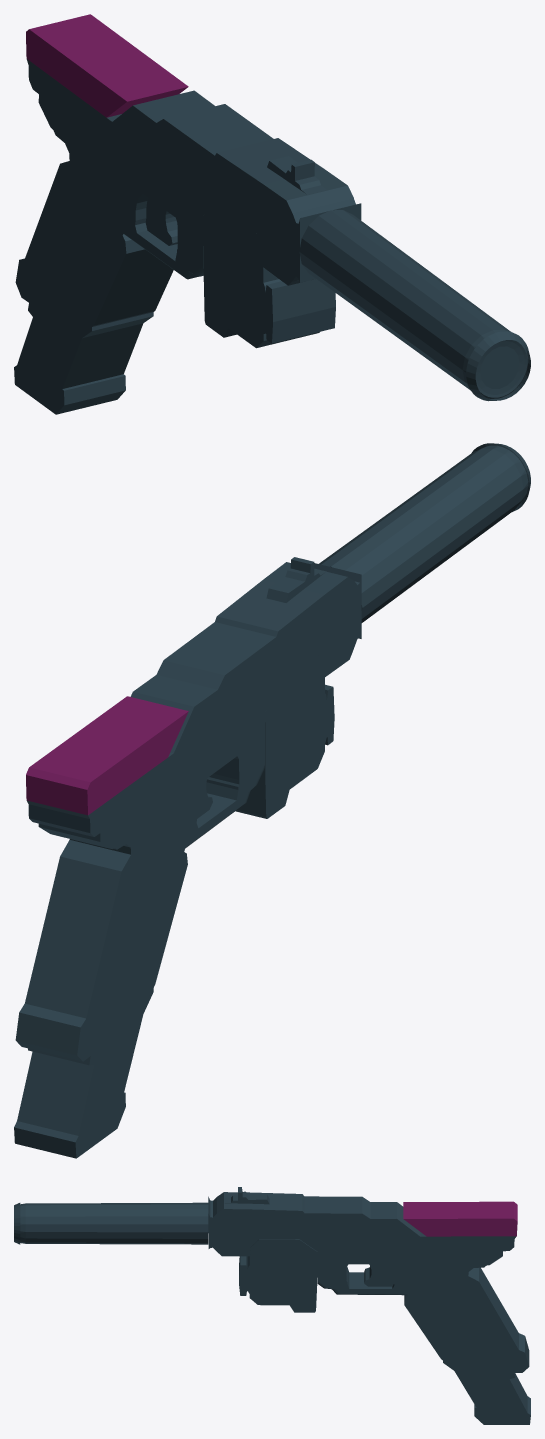
Rendered from gun.01(1).glb.
3 renders of one model, top to bottom at view 1: azimuth 30°, elevation 25°; view 2: azimuth 150°, elevation 25°; view 3: azimuth 270°, elevation 25°, orthographic. The views are drawn at different scales.
Visible parts, largest first — view 1: Base, Slider; view 2: Base, Slider; view 3: Base, Slider.
Boxes of the visible parts, x1=… form: Base: x1=14, y1=59, x2=530, y2=414; Slider: x1=26, y1=14, x2=188, y2=117; Base: x1=14, y1=443, x2=530, y2=1158; Slider: x1=26, y1=696, x2=188, y2=815; Base: x1=14, y1=1187, x2=530, y2=1424; Slider: x1=403, y1=1201, x2=517, y2=1236.
Bounding box in the file's own units: 0.3307 × 1.99 × 4.11.
